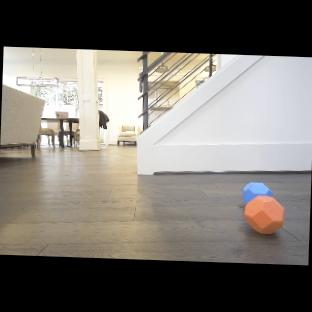V5_BLUE: (242, 182, 273, 198)
V5_RED: (244, 195, 286, 236)
pieces: (241, 181, 287, 237)
